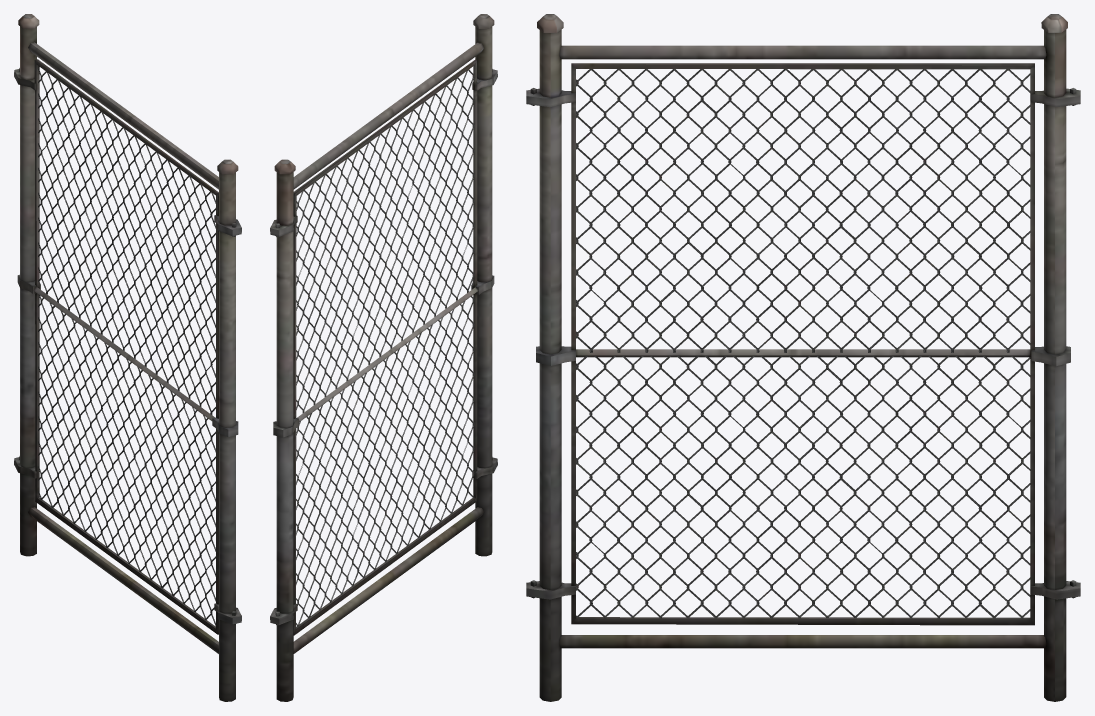
The model's file is fence01b.glb.
The picture shows the model from 3 angles, left to right: view 1: azimuth 30°, elevation 25°; view 2: azimuth 150°, elevation 25°; view 3: azimuth 270°, elevation 25°; orthographic projection. The views are drawn at different scales.
Parts seen in each view (by area): view 1: 0_fence_composite01, 1_fence_alpha; view 2: 0_fence_composite01, 1_fence_alpha; view 3: 0_fence_composite01, 1_fence_alpha.
Boxes of the visible parts, x1,y1,x2,y2 form: 0_fence_composite01: [14, 14, 241, 701]; 1_fence_alpha: [38, 68, 215, 626]; 0_fence_composite01: [270, 14, 497, 701]; 1_fence_alpha: [296, 69, 474, 626]; 0_fence_composite01: [526, 14, 1080, 701]; 1_fence_alpha: [576, 69, 1030, 618].
Size of the model in its own units: 0.1126 by 2.76 by 2.03.
2 materials, 2 textured.
